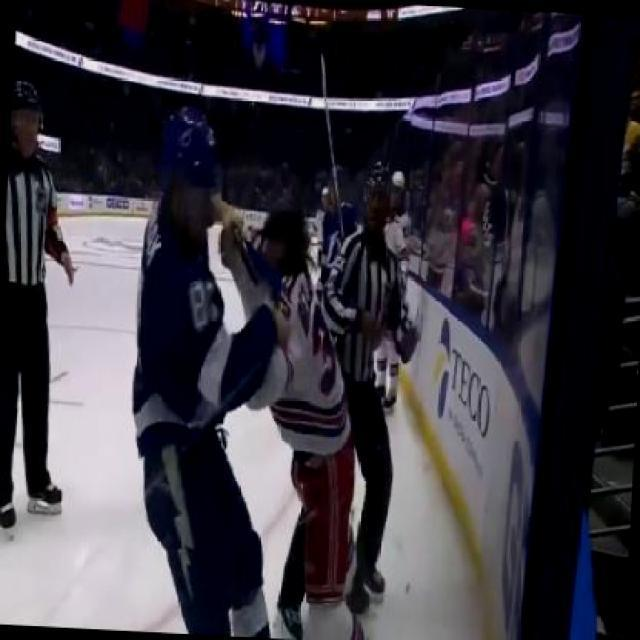fight: (118, 104, 377, 638)
non-fight: (0, 74, 94, 538)
